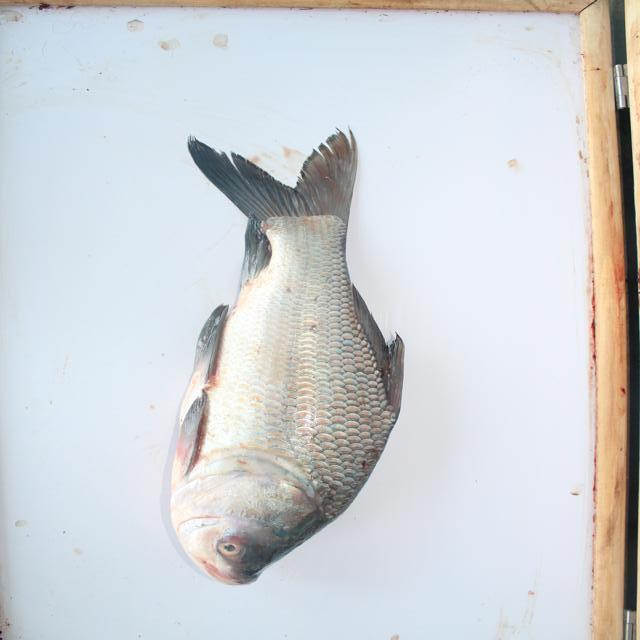Catla: (168, 129, 405, 585)
